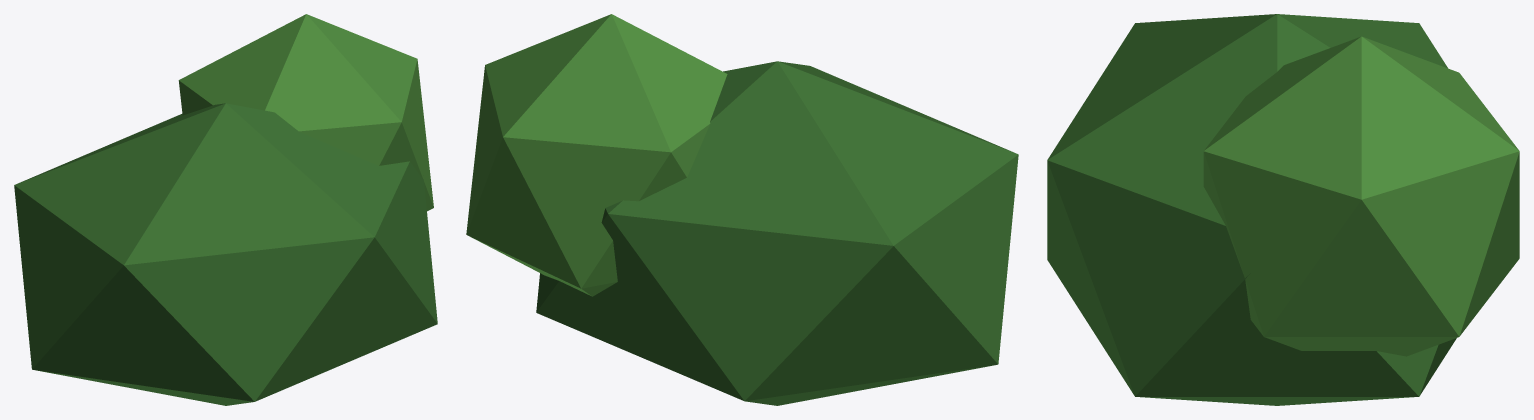
Rendered from bush_lo.glb.
3 renders of one model, left to right at view 1: azimuth 30°, elevation 25°; view 2: azimuth 150°, elevation 25°; view 3: azimuth 270°, elevation 25°, orthographic. The views are drawn at different scales.
Visible parts, largest first — view 1: bush; view 2: bush; view 3: bush.
Boxes of the visible parts, x1,y1,x2,y2 form: bush: [14, 14, 437, 405]; bush: [466, 14, 1018, 405]; bush: [1047, 14, 1519, 405].
Size of the model in its own units: 0.7402 by 0.576 by 0.5593.
